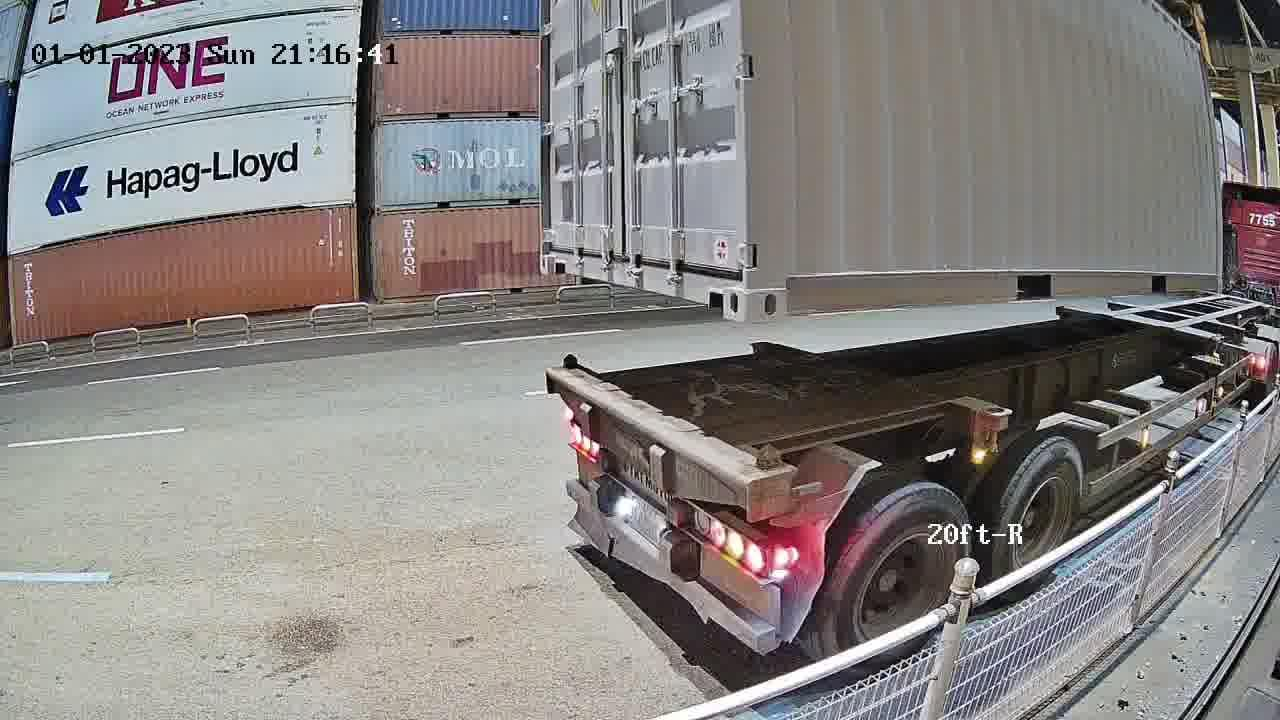Chassis: (549, 369, 746, 516)
Cone: (749, 443, 787, 514), (553, 352, 579, 385)
Hole_L: (749, 229, 822, 321), (540, 223, 576, 276)
Hole_R: (683, 231, 748, 322)
Tire: (829, 488, 968, 645), (991, 440, 1083, 580)
